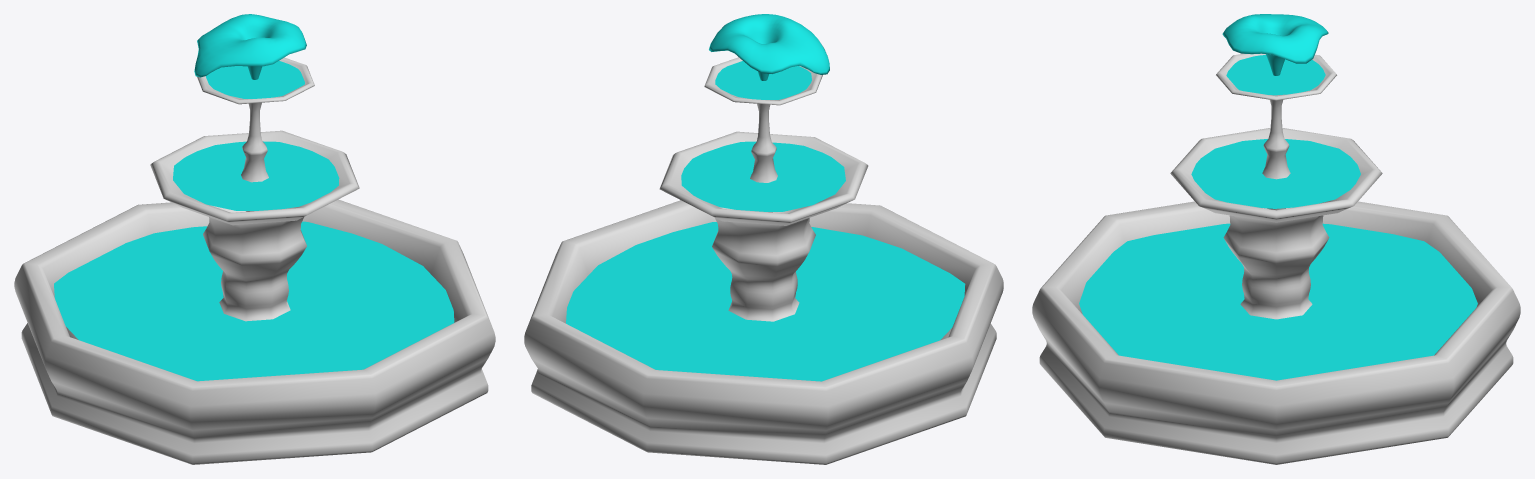
File: air.glb
3 views of the same model, side by side, from view 1: azimuth 30°, elevation 25°; view 2: azimuth 150°, elevation 25°; view 3: azimuth 270°, elevation 25° (orthographic).
Parts seen in each view (by area): view 1: Cube, Cylinder; view 2: Cube, Cylinder; view 3: Cube, Cylinder.
Boxes of the visible parts, left/top/right/bottom form: Cube: left=14, top=57, right=495, bottom=464; Cylinder: left=54, top=14, right=454, bottom=381; Cube: left=524, top=57, right=1003, bottom=464; Cylinder: left=566, top=14, right=965, bottom=381; Cube: left=1032, top=53, right=1520, bottom=464; Cylinder: left=1079, top=14, right=1477, bottom=380.
Size of the model in its own units: 432 by 336 by 432.
